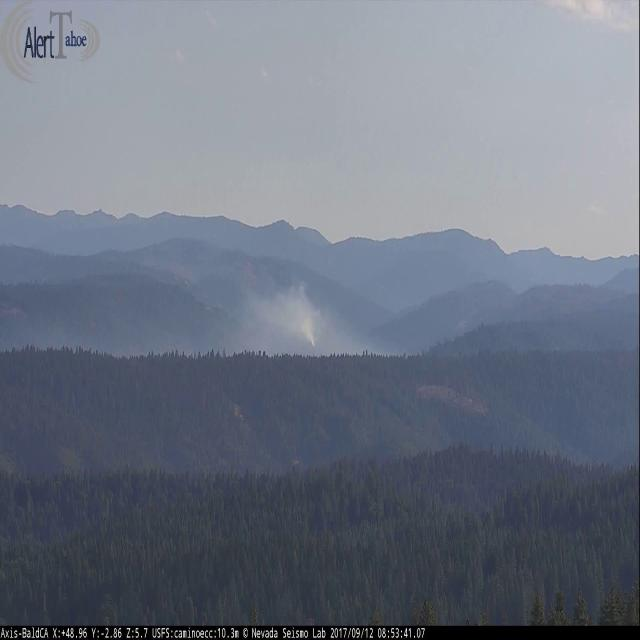smoke: (250, 277, 330, 350)
